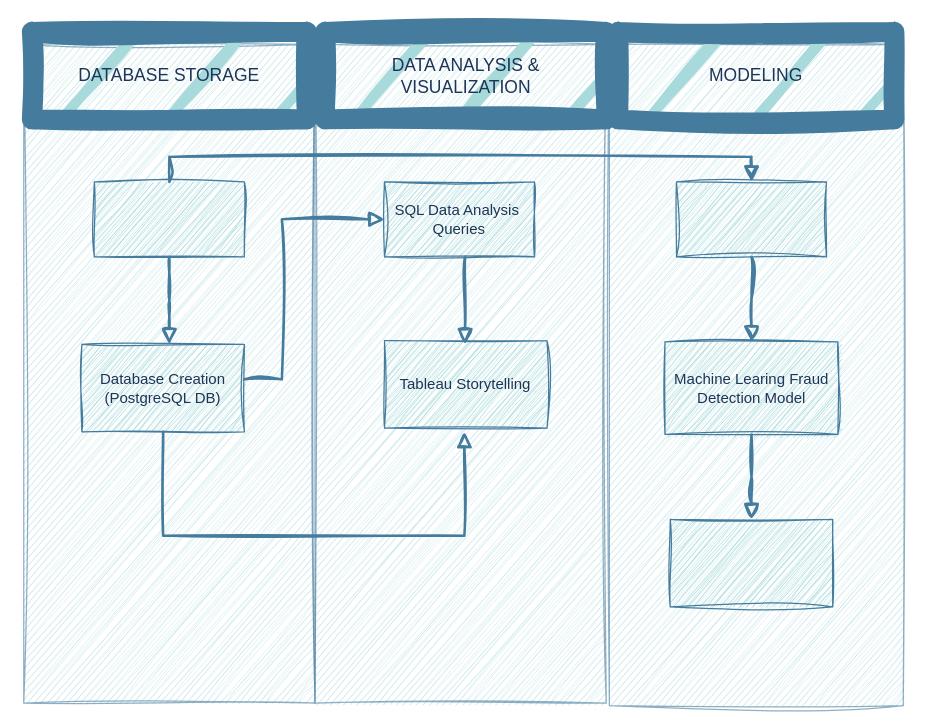
Image size: 925x728. Some labels were removed from this diagram. The centre of each missing label's shape, as x and y in pixels:
"Evaluate model performance" goes at (751,562).
"Explorato ry Data Analysis" goes at (750,219).
"Kaggle Dataset" goes at (168,219).
